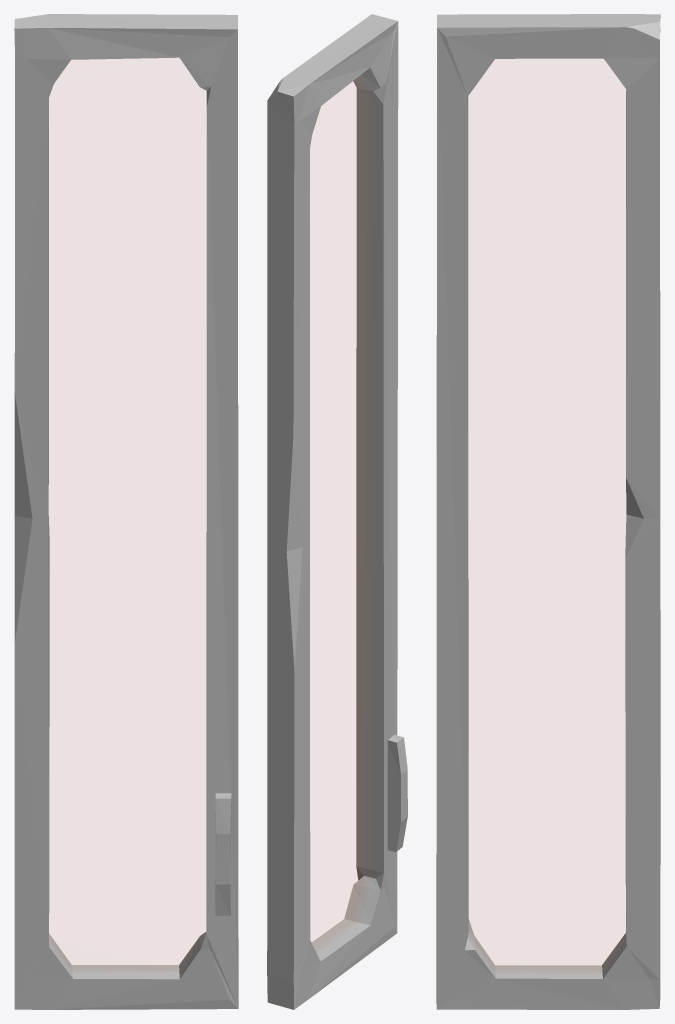
File: SFI_Library_Shelving_Cabinet_Door_001.fbx
3 renders of one model, left to right at view 1: azimuth 90°, elevation 25°; view 2: azimuth 150°, elevation 25°; view 3: azimuth 270°, elevation 25°, orthographic. The views are drawn at different scales.
Parts seen in each view (by area): view 1: SFI_Library_Shelving_Cabinet_Door_001; view 2: SFI_Library_Shelving_Cabinet_Door_001; view 3: SFI_Library_Shelving_Cabinet_Door_001.
Boxes of the visible parts, bbox=[...] form: SFI_Library_Shelving_Cabinet_Door_001: bbox=[14, 14, 238, 1009]; SFI_Library_Shelving_Cabinet_Door_001: bbox=[267, 14, 407, 1009]; SFI_Library_Shelving_Cabinet_Door_001: bbox=[436, 14, 660, 1009].
Size of the model in its own units: 10.35 by 221 by 45.73.
